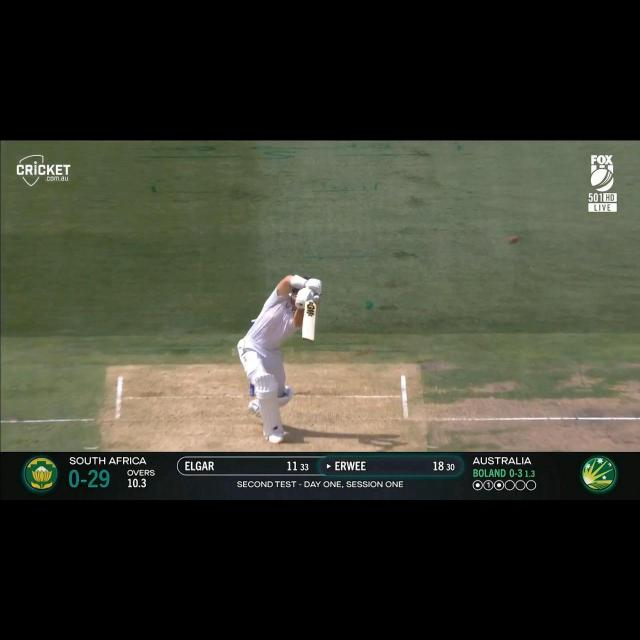bat: (302, 304, 317, 342)
toe: (301, 334, 316, 344)
